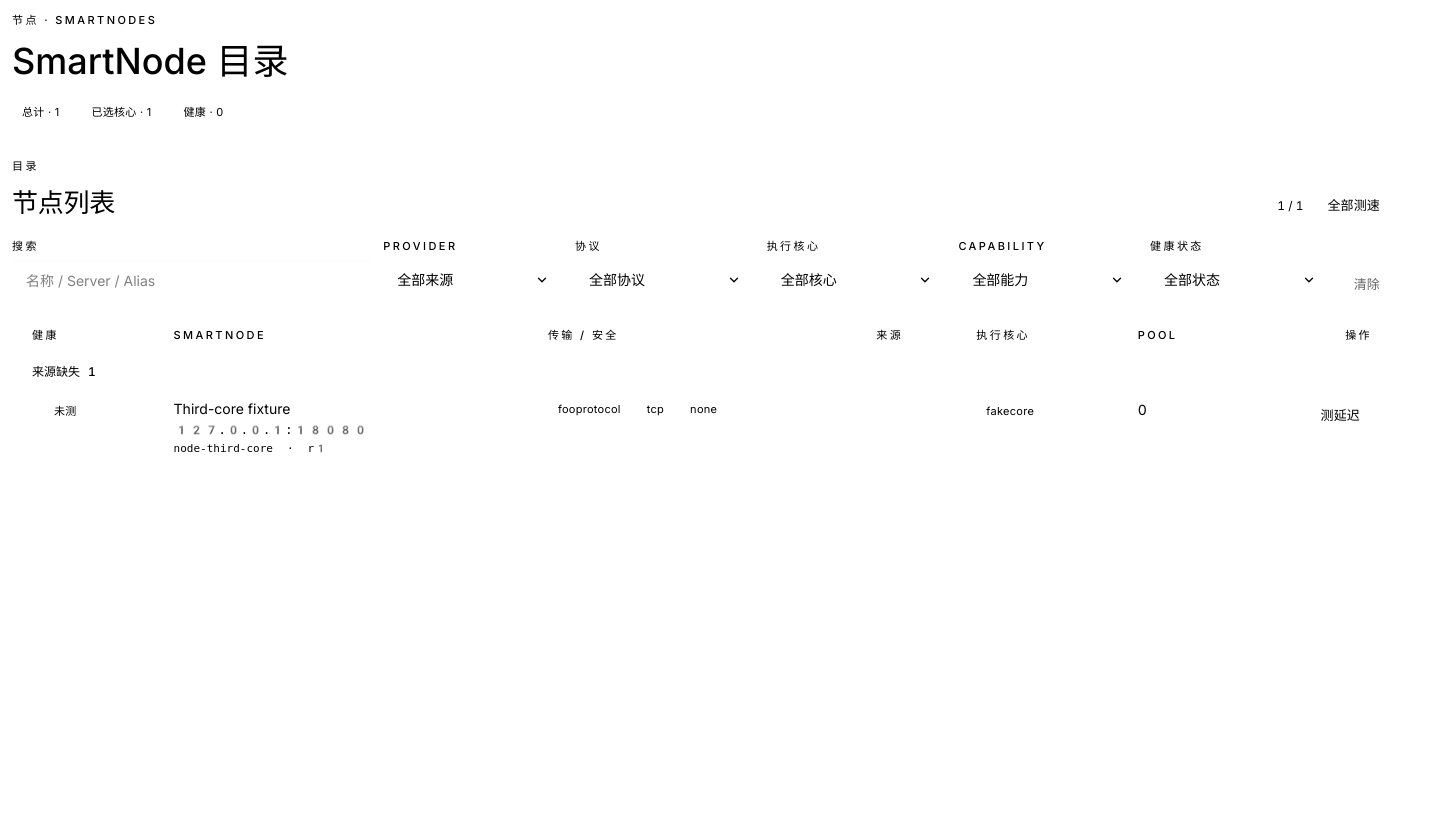
Test: FakeCore frontend extension contract › renders the third capability row and core choice with the core ID fallback
Click the row that starts with "Third-core fixture". click: (232, 409)
box: 12,388 -> 1392,467
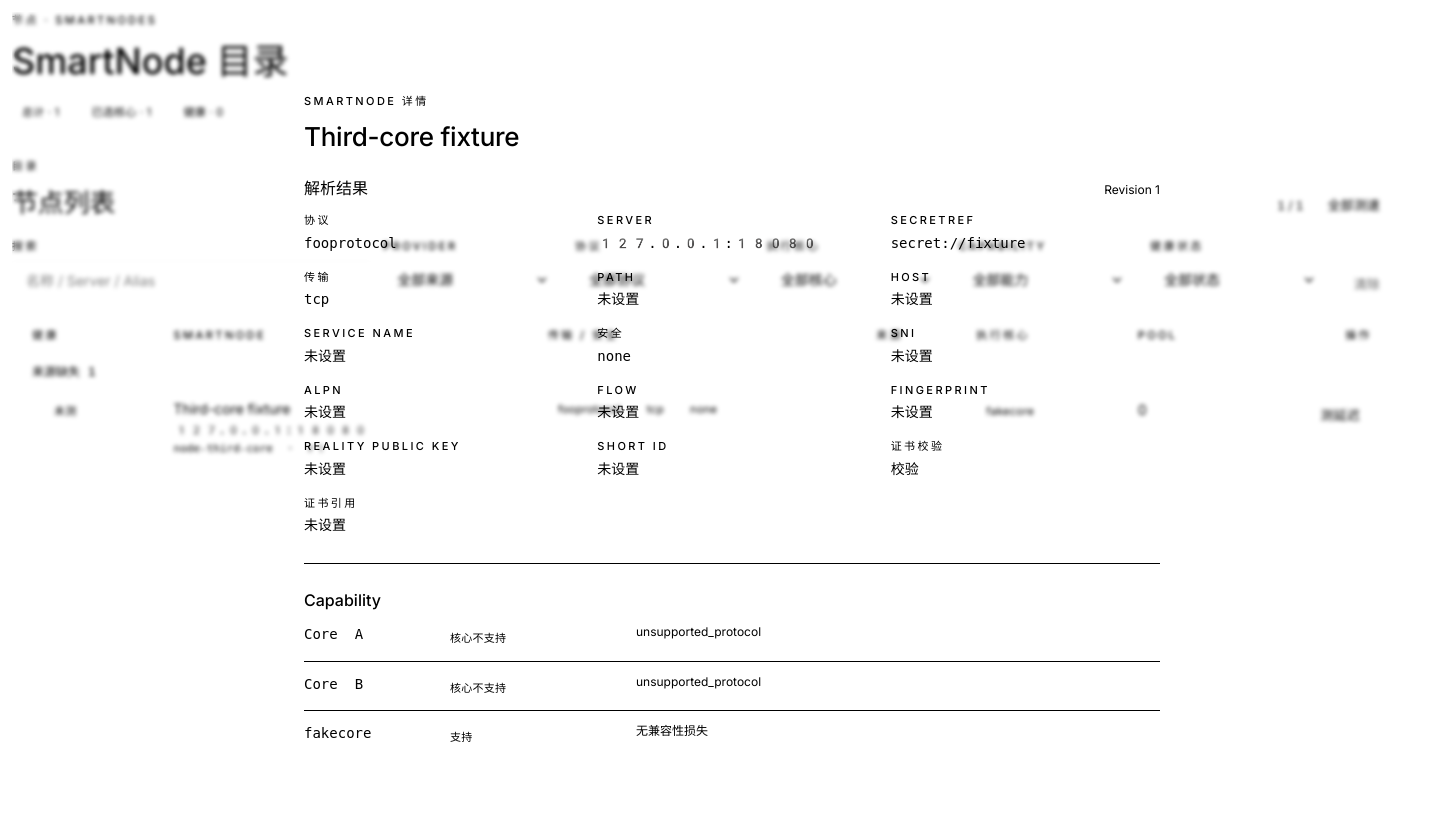
Now the element showing "fakecore 支持 无兼容性损失" is shown, box 304,723 -> 708,744
